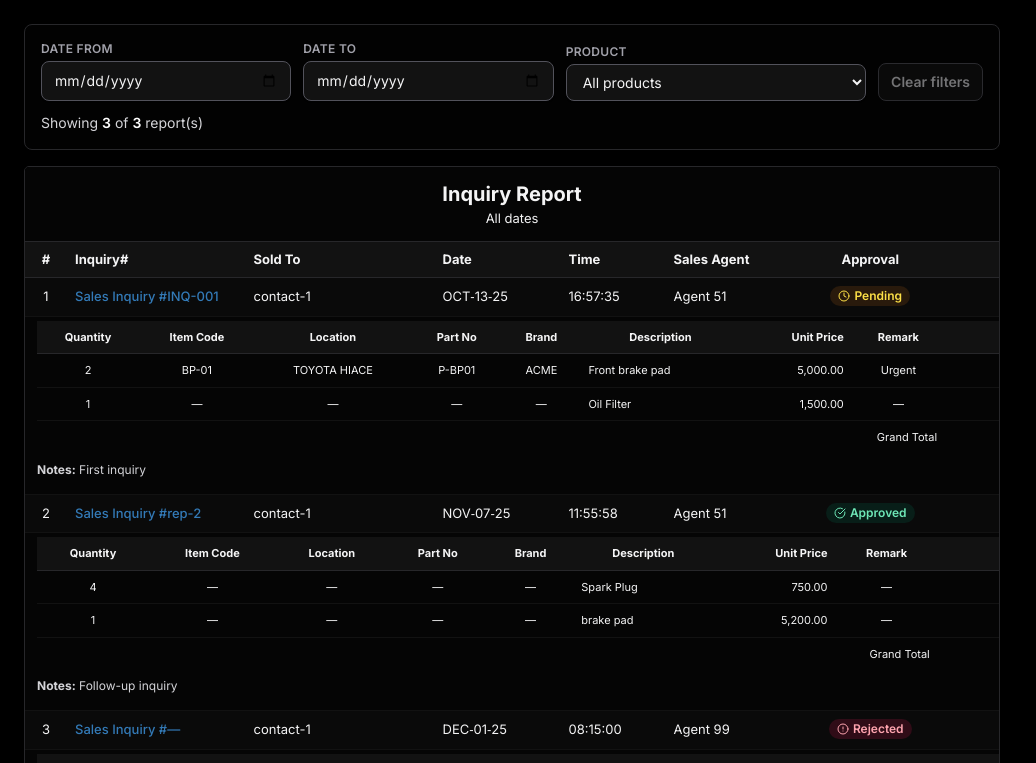
SalesReportTab › shows the filtered empty state when no report matches
Type "2026-01-01" into the date field labelled "Date From".
click(166, 81); type("2026-01-01")  # box 41,61 -> 291,101
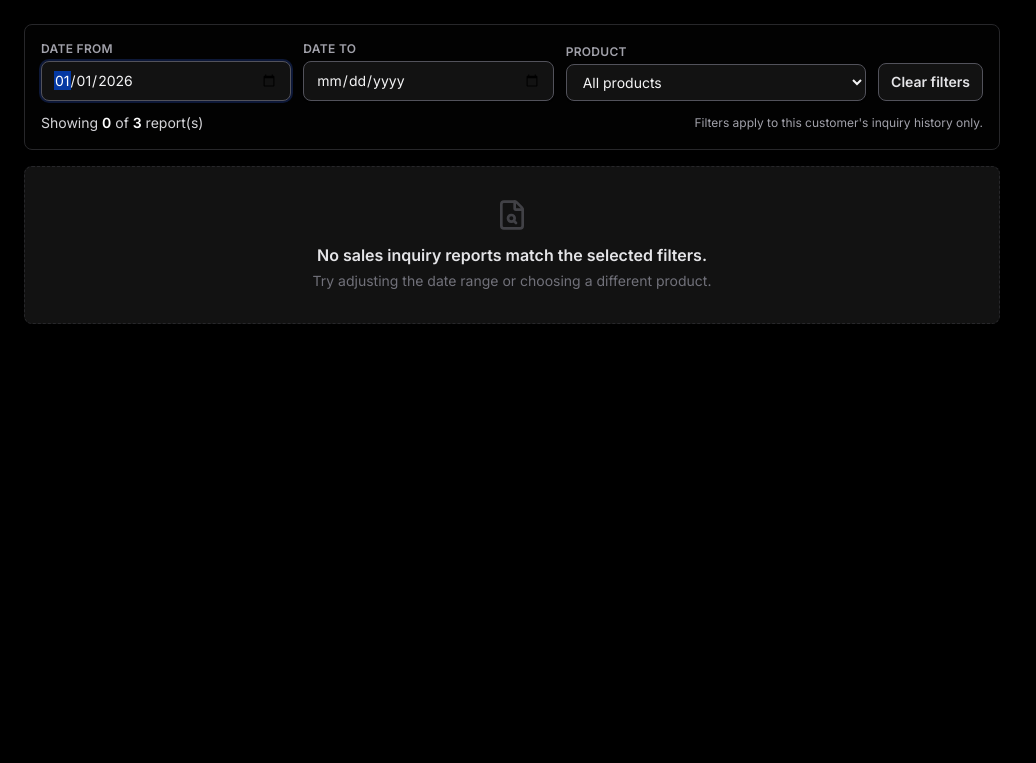
Check: the text "Showing 0 of 3 report(s)" is shown, box 41,113 -> 204,133
Check: the text "No sales inquiry reports match the selected filters." is shown, box 317,245 -> 707,265
Check: the text "Try adjusting the date range or choosing a different product." is shown, box 313,272 -> 712,289
